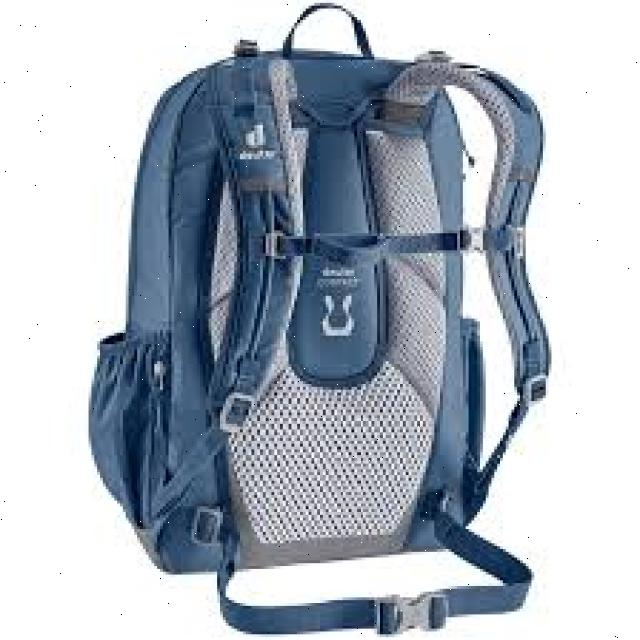backpack: (85, 0, 551, 634)
